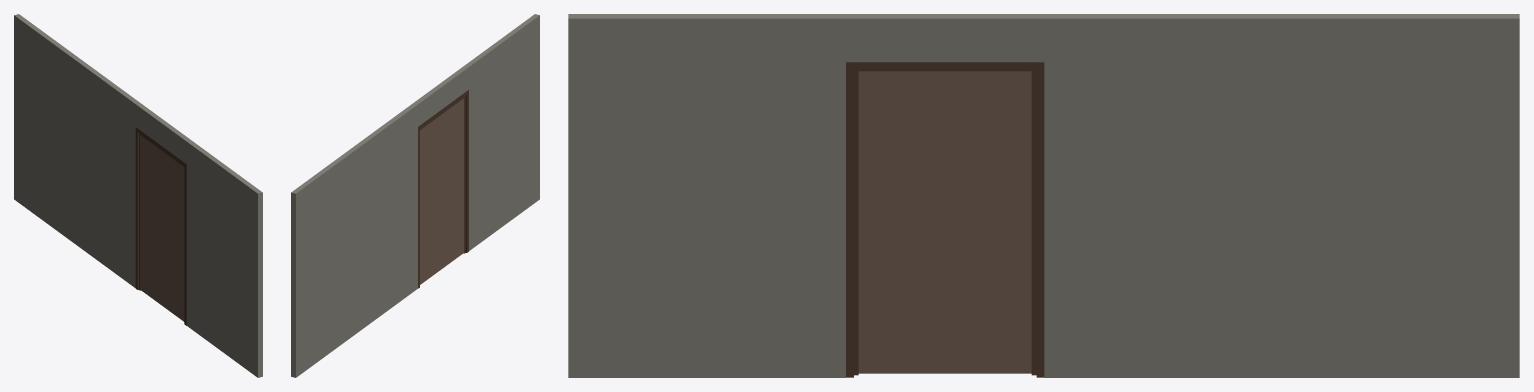
Rendered from pared_UNApuerta.fbx.
The picture shows the model from 3 angles, left to right: view 1: azimuth 30°, elevation 25°; view 2: azimuth 150°, elevation 25°; view 3: azimuth 270°, elevation 25°; orthographic projection. The views are drawn at different scales.
Parts seen in each view (by area): view 1: pared1puerta; view 2: pared1puerta; view 3: pared1puerta.
Part boxes in pixels (x1,y1,x2,y2): pared1puerta: (14, 14, 262, 377); pared1puerta: (291, 14, 539, 377); pared1puerta: (568, 14, 1519, 377).
Size of the model in its own units: 7.38 by 250 by 600.
